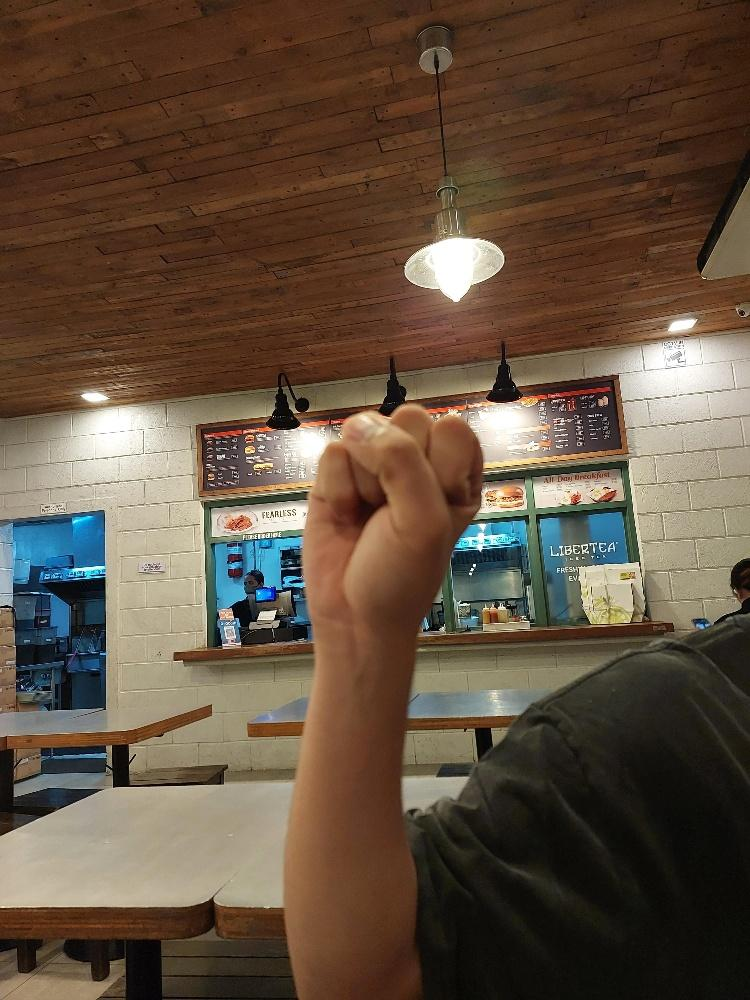s: (300, 402, 484, 634)
